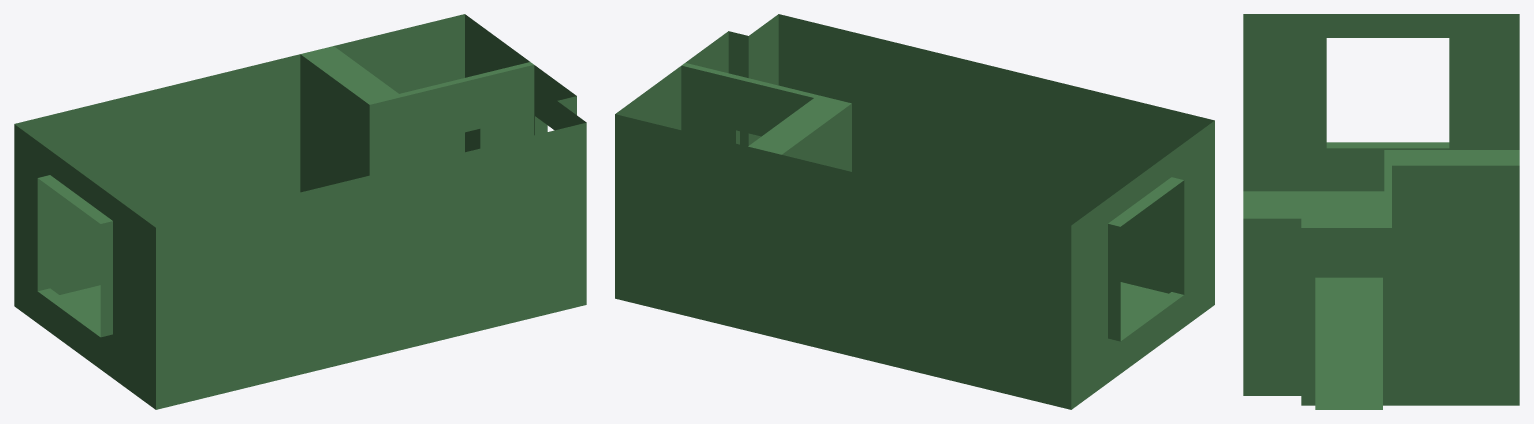
The model's file is Rooms_A_3_2_19.FBX.
3 renders of one model, left to right at view 1: azimuth 30°, elevation 25°; view 2: azimuth 150°, elevation 25°; view 3: azimuth 270°, elevation 25°, orthographic. The views are drawn at different scales.
Visible parts, largest first — view 1: Rooms_A_3_2_19; view 2: Rooms_A_3_2_19; view 3: Rooms_A_3_2_19.
Part boxes in pixels (box(x1,y1,x2,y2)): Rooms_A_3_2_19: box(14, 14, 586, 409); Rooms_A_3_2_19: box(615, 14, 1214, 409); Rooms_A_3_2_19: box(1243, 14, 1519, 409).
Bounding box in the file's own units: 7.65 × 2.8 × 3.95.
